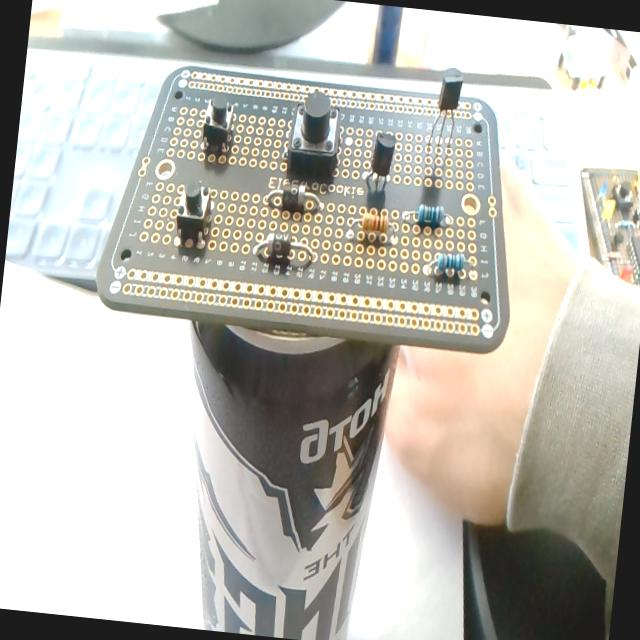diode: (252, 230, 316, 270), (262, 179, 324, 218)
resistor: (358, 206, 390, 243), (434, 250, 464, 276), (416, 202, 444, 227)
switch: (286, 90, 344, 180), (172, 178, 216, 250), (200, 94, 236, 156)
transistor: (427, 65, 464, 152), (364, 128, 397, 192)
